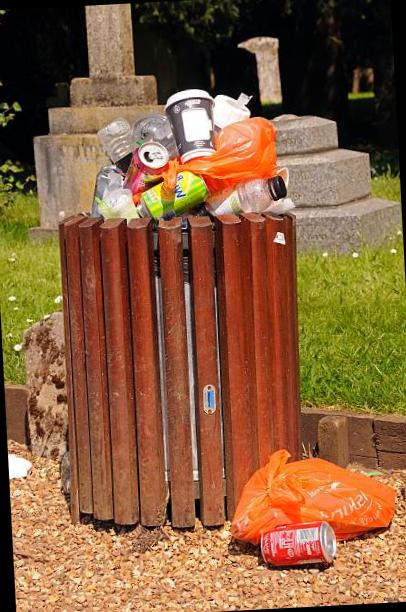trash: (45, 63, 318, 226), (236, 442, 384, 544), (258, 513, 342, 572)
trash_can_overflow: (23, 0, 382, 579)
